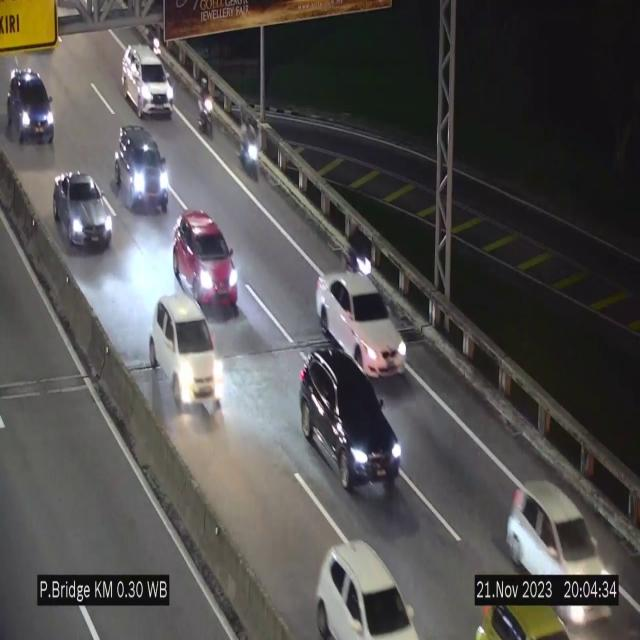Car: (496, 450, 620, 626), (300, 338, 404, 496), (316, 542, 422, 637), (316, 273, 408, 375), (468, 565, 578, 640), (150, 299, 217, 412), (174, 209, 238, 311), (114, 126, 170, 212), (5, 68, 59, 153), (54, 171, 112, 246), (122, 44, 174, 118)
Motorcycle: (347, 220, 373, 272), (238, 125, 261, 179), (198, 79, 212, 137)
